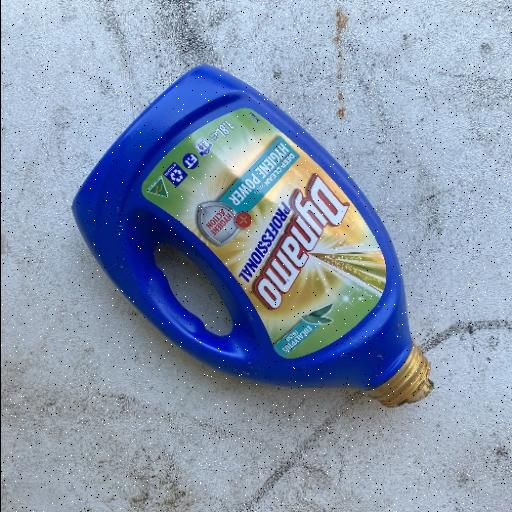Plastic: (70, 62, 436, 410)
